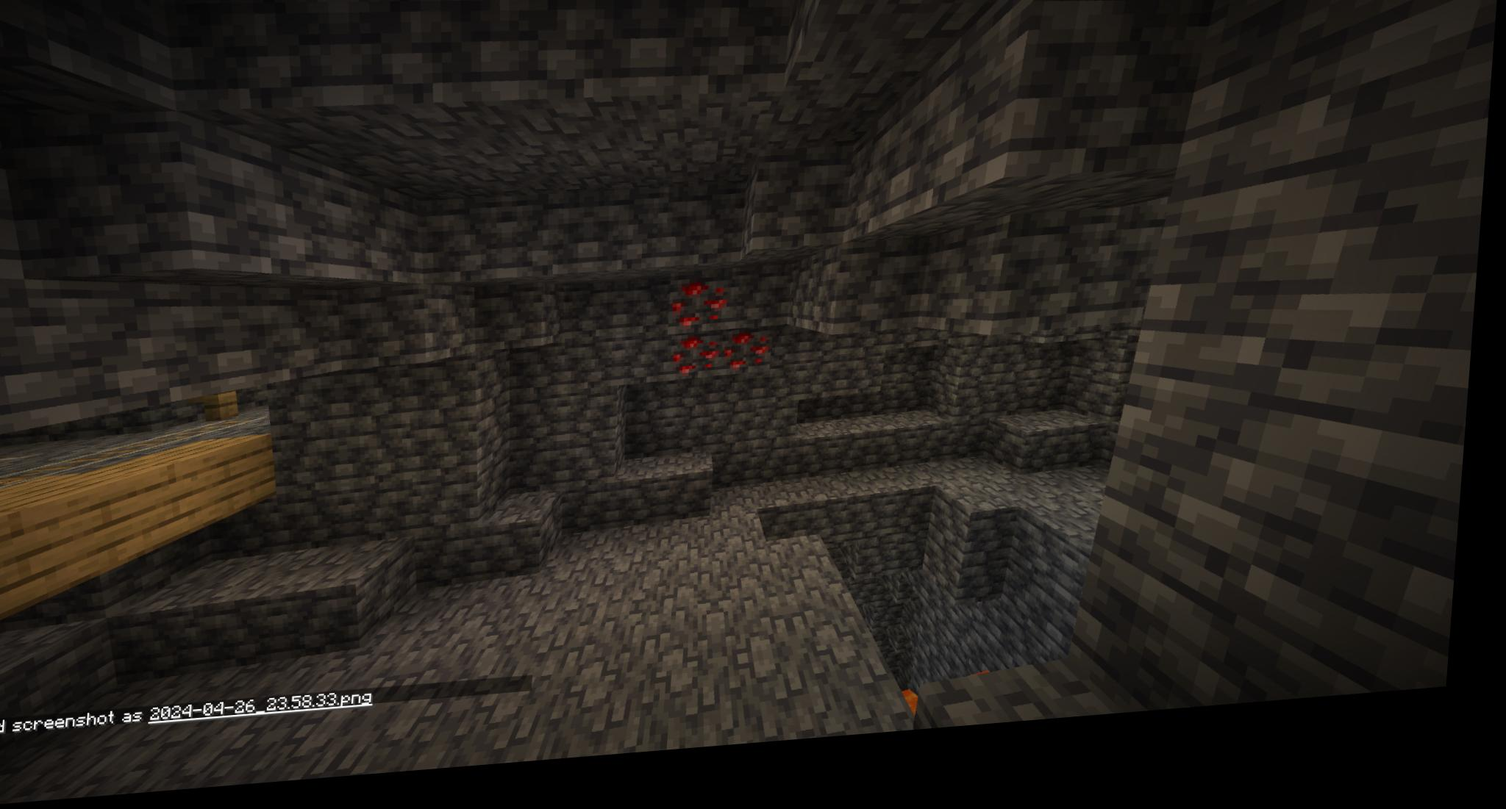redstone ore: (675, 288, 734, 345), (675, 341, 727, 392), (724, 341, 779, 387)
